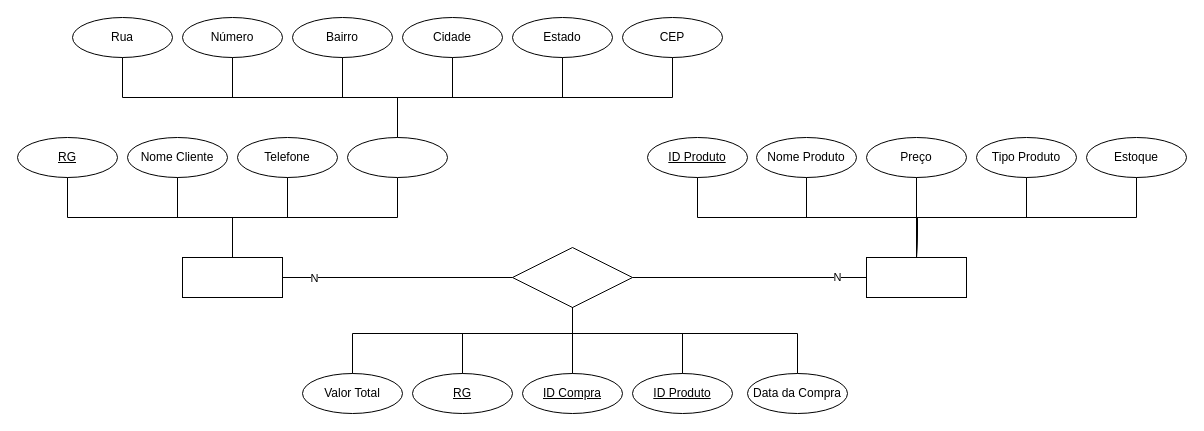
Image size: 1204x431. Some labels were removed from this diagram. Each missing label, with the box of its shape:
Clientes: (182, 256, 282, 298)
Compra: (512, 246, 632, 308)
Endereço: (346, 136, 448, 178)
Produtos: (866, 256, 966, 298)
